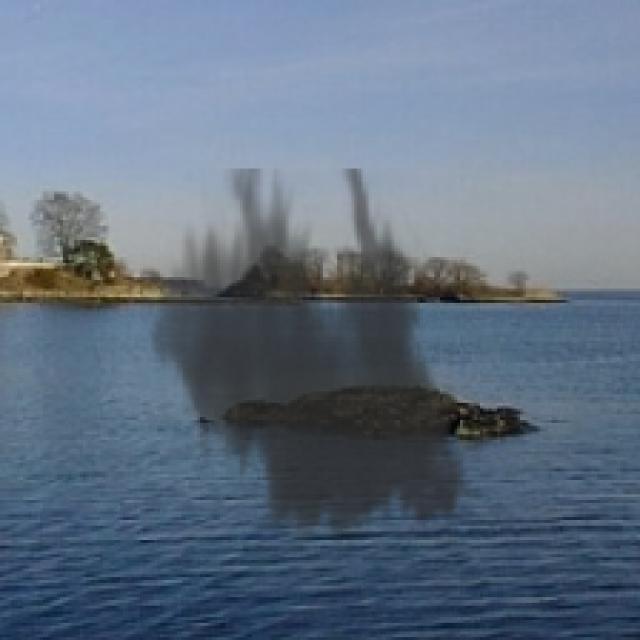Smoke: (140, 168, 483, 558)
